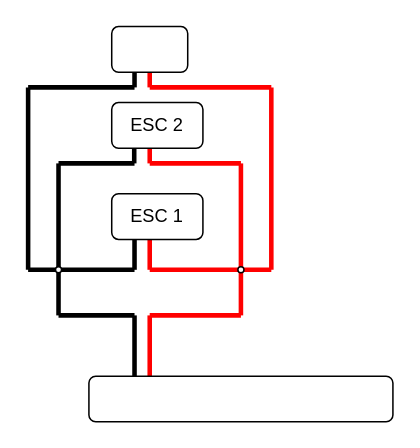
This 420x448 diagram has some shape labels left out. Here are the shapes that lost their labels. From the top down, the box of each, then its label:
(110, 25, 188, 72): ESC 3
(87, 375, 393, 422): Battery
